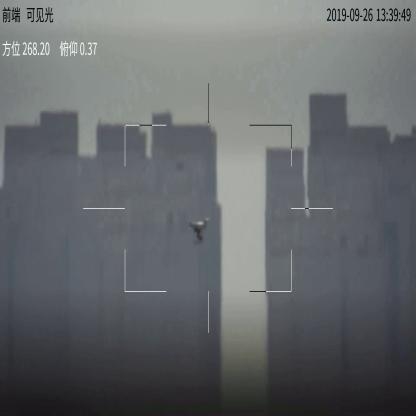uav: (186, 217, 212, 244)
